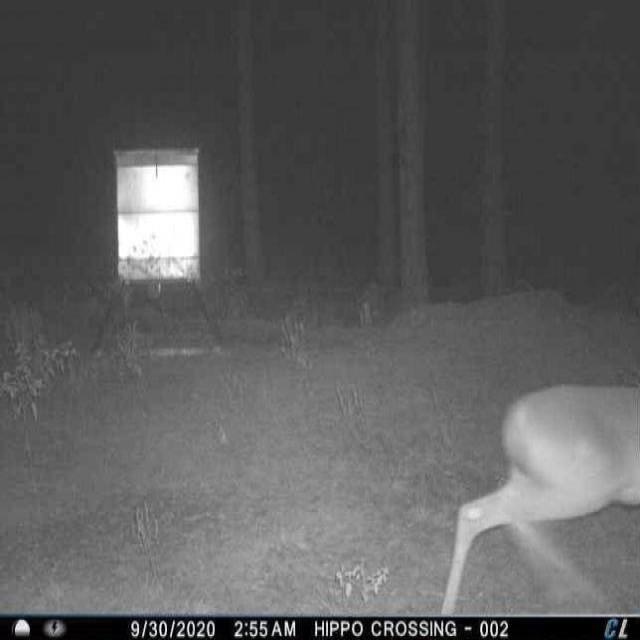deer: (441, 377, 639, 620)
